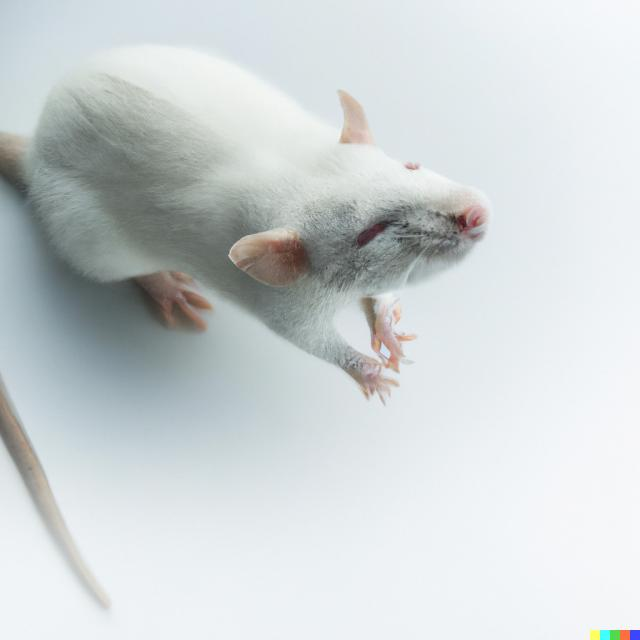rodents: (22, 16, 555, 403)
